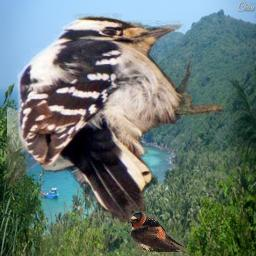Swallow: (129, 211, 185, 253)
Woodpecker: (7, 13, 224, 222)
